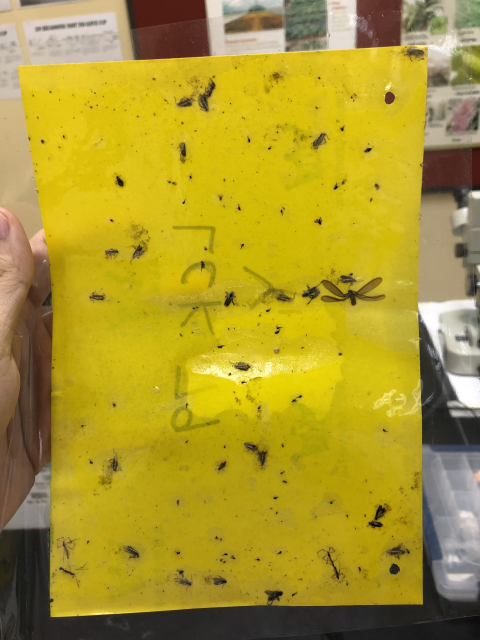DBM: (127, 242, 148, 267), (171, 91, 196, 109), (195, 93, 215, 115), (107, 447, 123, 473), (383, 543, 407, 560), (339, 273, 364, 288), (311, 131, 330, 150), (273, 291, 297, 305), (122, 544, 141, 559), (256, 448, 270, 468), (373, 503, 388, 521), (228, 360, 252, 371), (366, 519, 386, 532), (203, 79, 217, 97), (240, 441, 261, 453), (104, 246, 119, 262), (177, 574, 194, 588), (88, 294, 106, 302)
